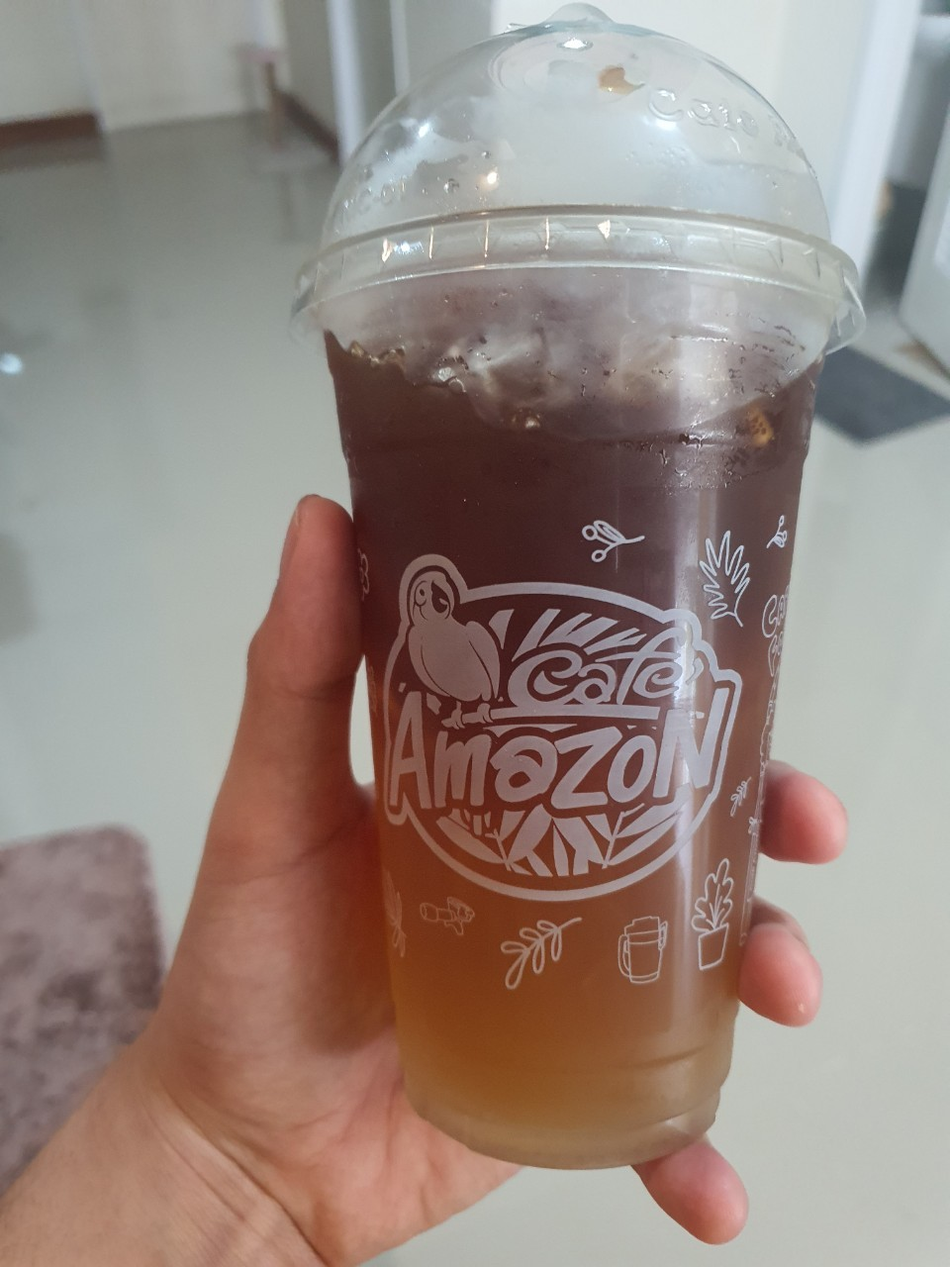plastic: (297, 4, 877, 1188)
